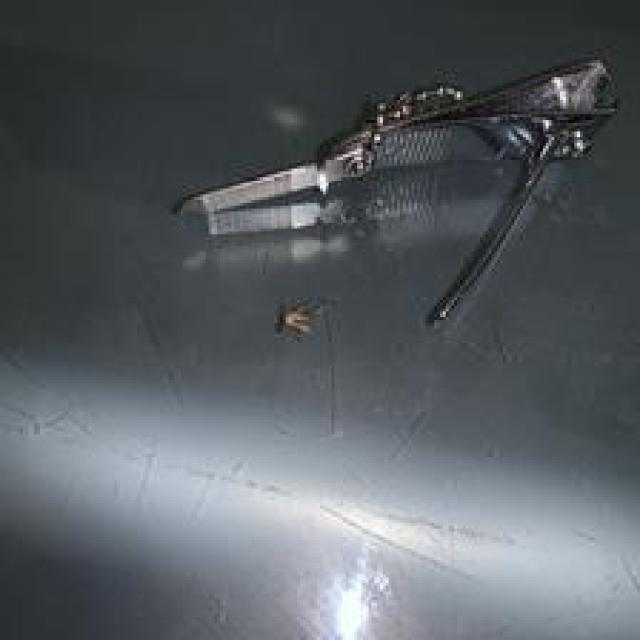Culex: (171, 54, 620, 329)
